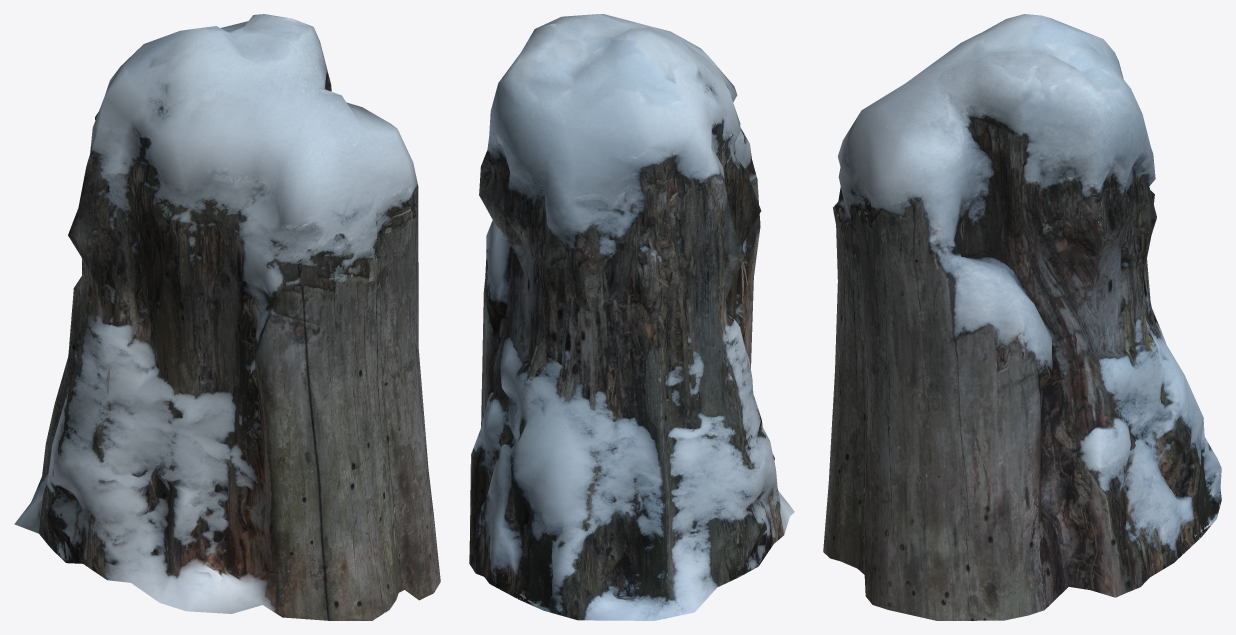
The model's file is Forest_stump_3.FBX.
3 renders of one model, left to right at view 1: azimuth 30°, elevation 25°; view 2: azimuth 150°, elevation 25°; view 3: azimuth 270°, elevation 25°, orthographic. The views are drawn at different scales.
Parts seen in each view (by area): view 1: Forest_stump_3; view 2: Forest_stump_3; view 3: Forest_stump_3.
Part boxes in pixels (<box>): Forest_stump_3: <box>14,14,440,620</box>; Forest_stump_3: <box>469,14,794,620</box>; Forest_stump_3: <box>823,14,1221,620</box>.
Bounding box in the file's own units: 0.9438 × 1.5 × 1.04.
1 material, 1 textured.
